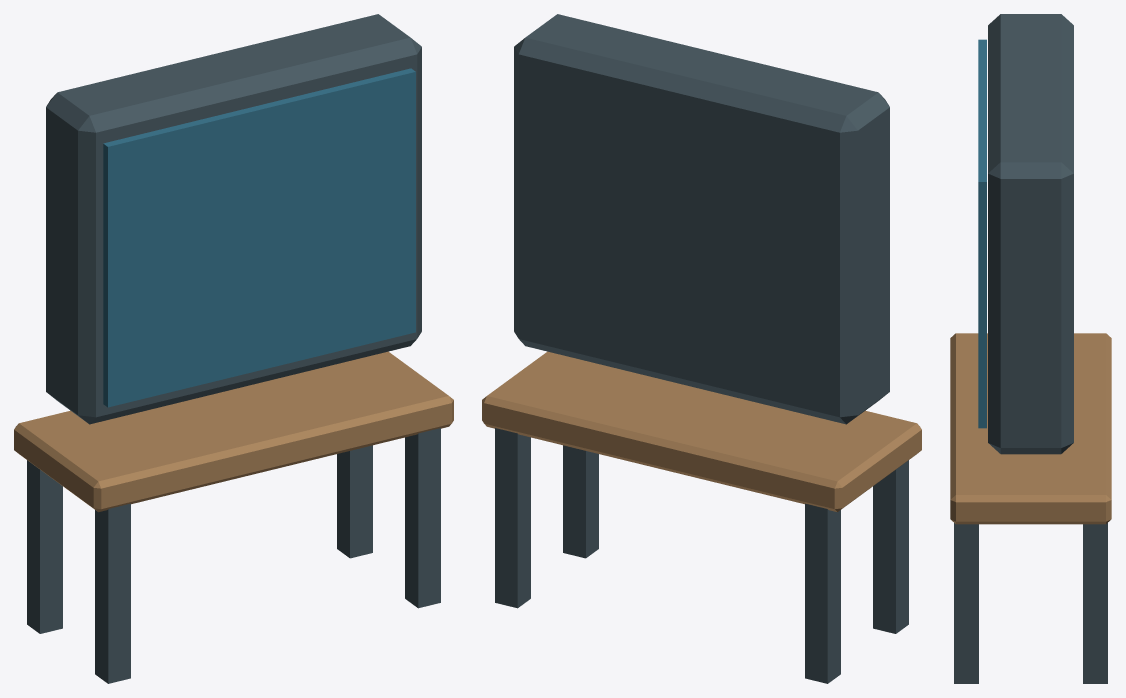
File: television_stand.glb
3 renders of one model, left to right at view 1: azimuth 30°, elevation 25°; view 2: azimuth 150°, elevation 25°; view 3: azimuth 270°, elevation 25°, orthographic. The views are drawn at different scales.
Visible parts, largest first — view 1: television_stand; view 2: television_stand; view 3: television_stand.
Boxes of the visible parts, x1,y1,x2,y2 form: television_stand: (14,14,453,683); television_stand: (482,14,921,683); television_stand: (950,14,1111,683).
Size of the model in its own units: 1.1 by 1.6 by 0.45.
